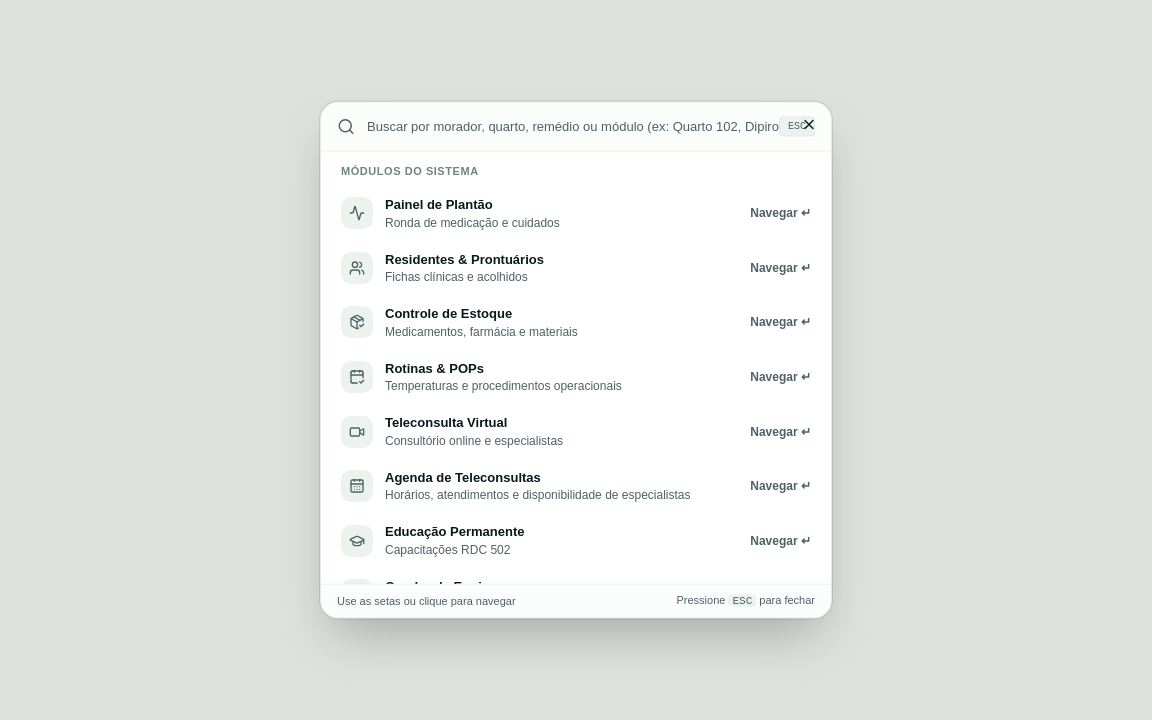
CommandPaletteModal Component (Busca Rápida Global) › permite filtrar residente pelo nome ou quarto e navega ao selecionar
Later steps or results of the test are not shown.
Replace the text in the field with placeholder "Buscar por morador, quarto, remédio ou módulo" with "Maria" at (573, 127), box [367, 117, 779, 136]
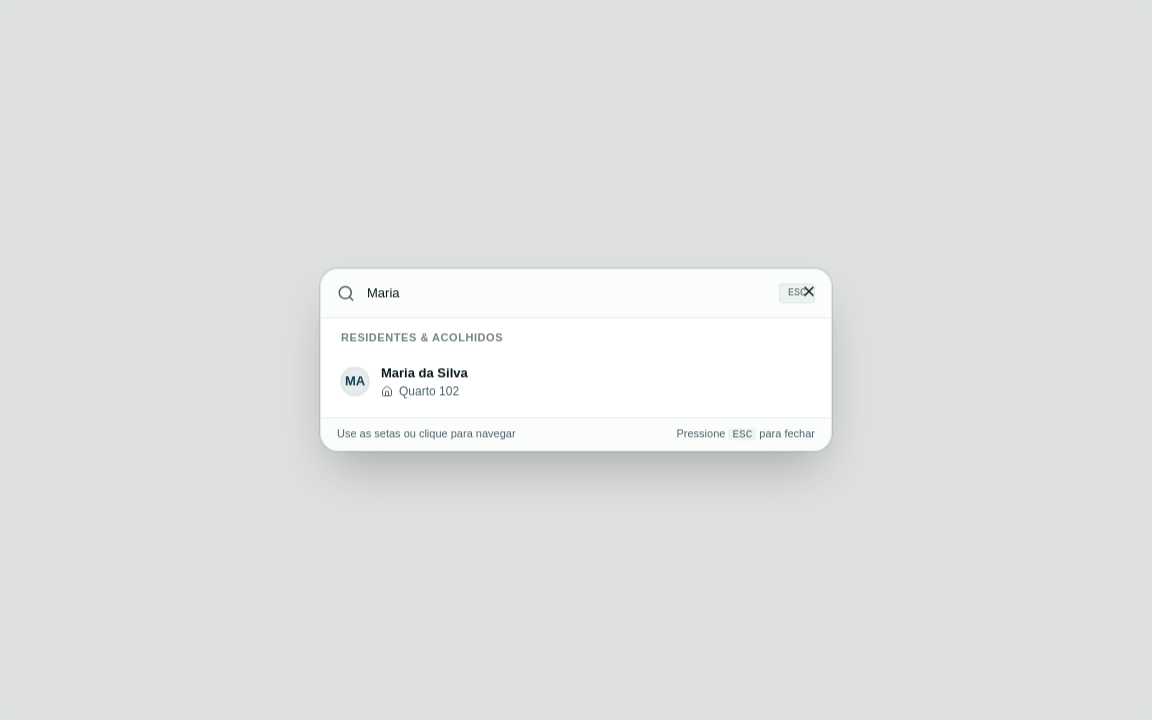
expect the text "Maria da Silva" is shown: met, box [381, 364, 468, 383]
expect the text "Quarto 102" is shown: met, box [381, 383, 468, 399]
